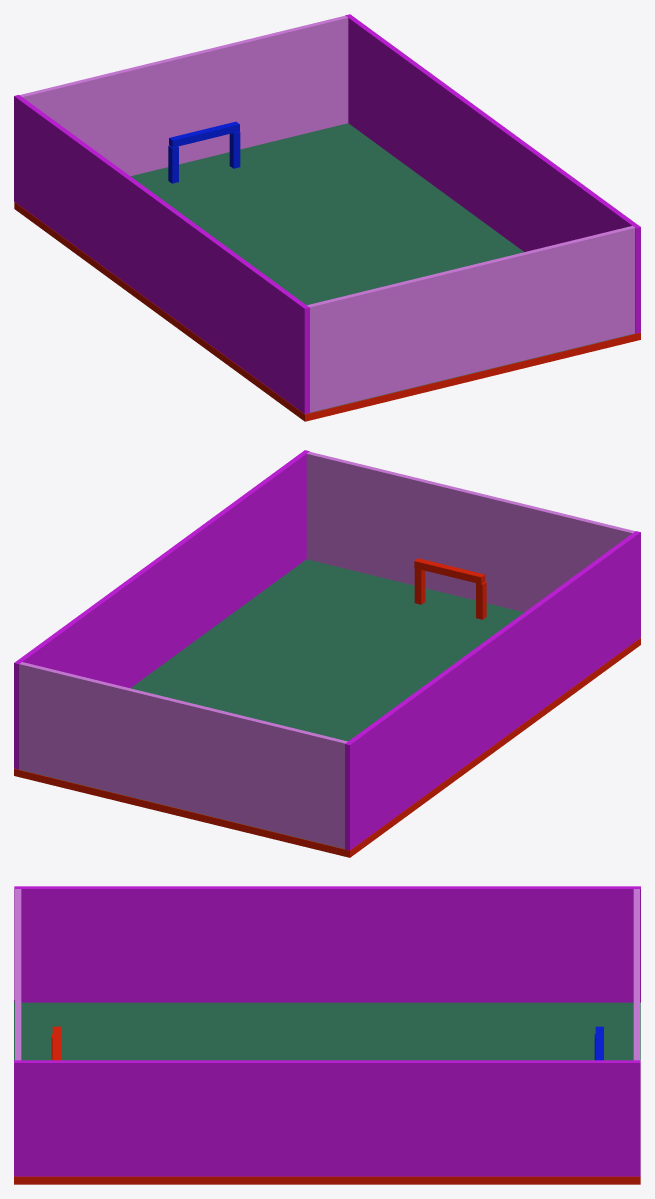
The model's file is field.glb.
3 renders of one model, top to bottom at view 1: azimuth 30°, elevation 25°; view 2: azimuth 150°, elevation 25°; view 3: azimuth 270°, elevation 25°, orthographic. The views are drawn at different scales.
Parts seen in each view (by area): view 1: Cube; view 2: Cube; view 3: Cube.
Part boxes in pixels (x1,y1,x2,y2): Cube: [14, 14, 640, 421]; Cube: [14, 450, 640, 857]; Cube: [14, 886, 640, 1184].
Bounding box in the file's own units: 20.01 × 6.42 × 30.02.
